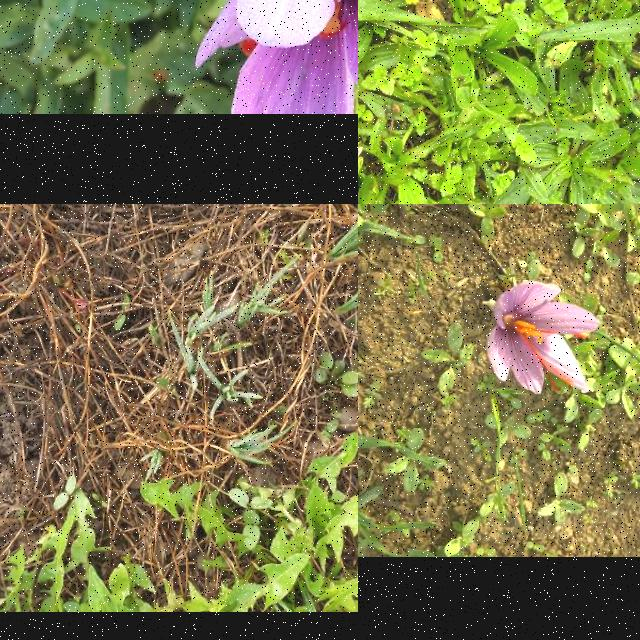flower: (195, 0, 358, 114), (486, 282, 600, 394)
